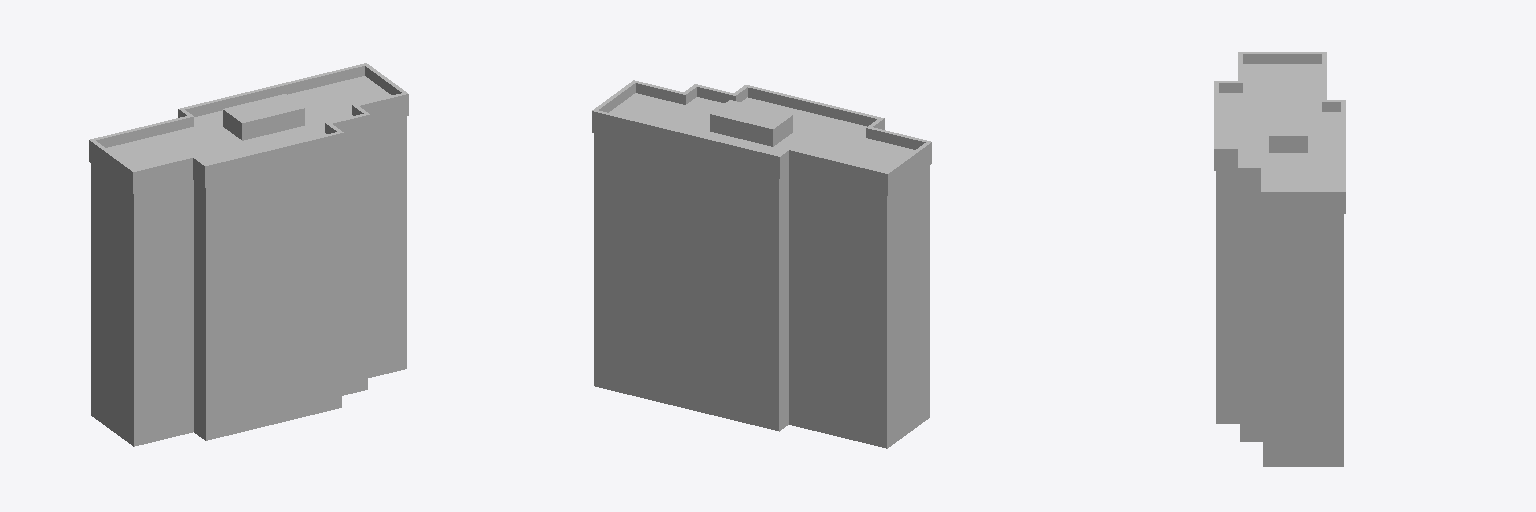
File: building_33.obj
3 renders of one model, left to right at view 1: azimuth 30°, elevation 25°; view 2: azimuth 150°, elevation 25°; view 3: azimuth 270°, elevation 25°, orthographic.
Parts seen in each view (by area): view 1: BakedBuilding_330; view 2: BakedBuilding_330; view 3: BakedBuilding_330.
Part boxes in pixels (left/top/right/bottom): BakedBuilding_330: left=89, top=63, right=408, bottom=446; BakedBuilding_330: left=592, top=80, right=931, bottom=448; BakedBuilding_330: left=1214, top=52, right=1345, bottom=466.
Bounding box in the file's own units: 138 × 130 × 54.58.